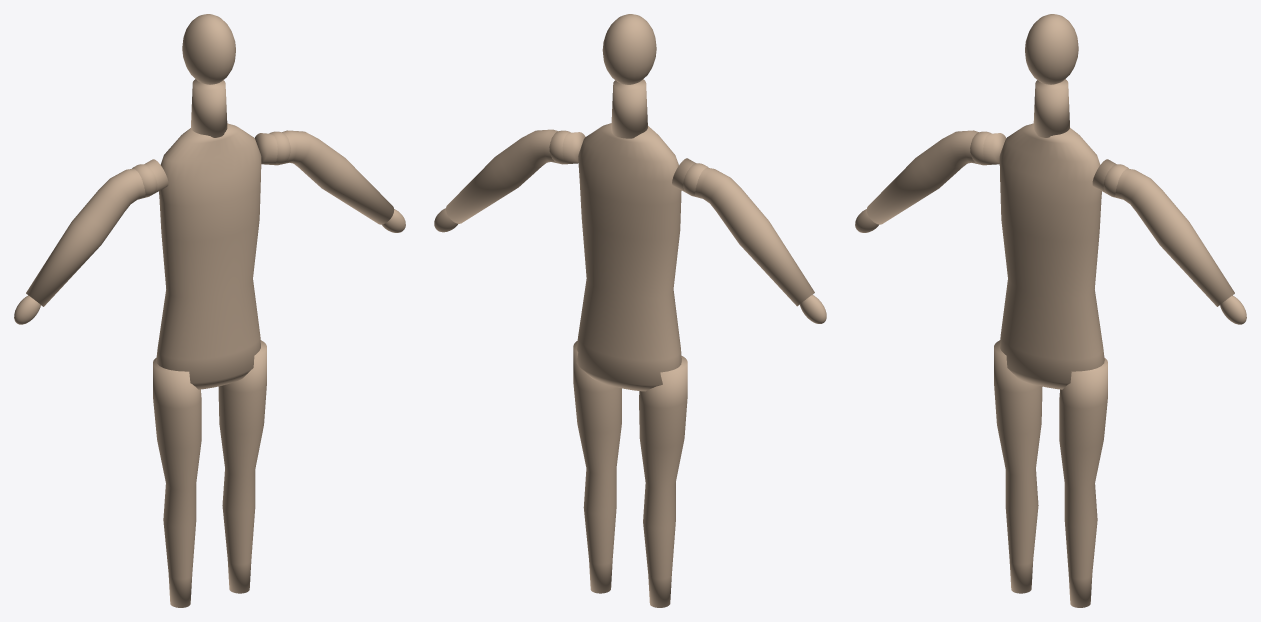
The model's file is mannequin.glb.
3 views of the same model, side by side, from view 1: azimuth 30°, elevation 25°; view 2: azimuth 150°, elevation 25°; view 3: azimuth 330°, elevation 25° (orthographic).
Visible parts, largest first — view 1: Body_torso, Body_leg_-1, Body_leg_1, Body_arm_-1, Body_arm_1, Body_head, Body_neck, Body_hand_-1; view 2: Body_torso, Body_leg_-1, Body_leg_1, Body_arm_-1, Body_arm_1, Body_head, Body_neck, Body_hand_-1; view 3: Body_torso, Body_leg_1, Body_leg_-1, Body_arm_1, Body_arm_-1, Body_head, Body_neck, Body_hand_1.
Part boxes in pixels (x1,y1,x2,y2): Body_torso: [156, 123, 261, 389]; Body_leg_-1: [153, 357, 201, 607]; Body_leg_1: [218, 340, 266, 593]; Body_arm_-1: [26, 159, 168, 306]; Body_arm_1: [254, 130, 394, 224]; Body_head: [182, 14, 235, 84]; Body_neck: [191, 79, 227, 137]; Body_hand_-1: [14, 295, 40, 324]; Body_torso: [576, 123, 681, 391]; Body_leg_-1: [639, 355, 687, 607]; Body_leg_1: [573, 341, 621, 593]; Body_arm_-1: [672, 158, 814, 306]; Body_arm_1: [446, 129, 585, 223]; Body_head: [602, 14, 656, 84]; Body_neck: [611, 79, 647, 138]; Body_hand_-1: [800, 294, 826, 323]; Body_torso: [999, 123, 1104, 389]; Body_leg_1: [1059, 357, 1107, 607]; Body_leg_-1: [994, 340, 1042, 593]; Body_arm_1: [1092, 159, 1234, 306]; Body_arm_-1: [866, 130, 1006, 224]; Body_head: [1025, 14, 1078, 84]; Body_neck: [1033, 79, 1069, 137]; Body_hand_1: [1220, 295, 1246, 324].
Bounding box in the file's own units: 1.39 × 1.97 × 0.221.
